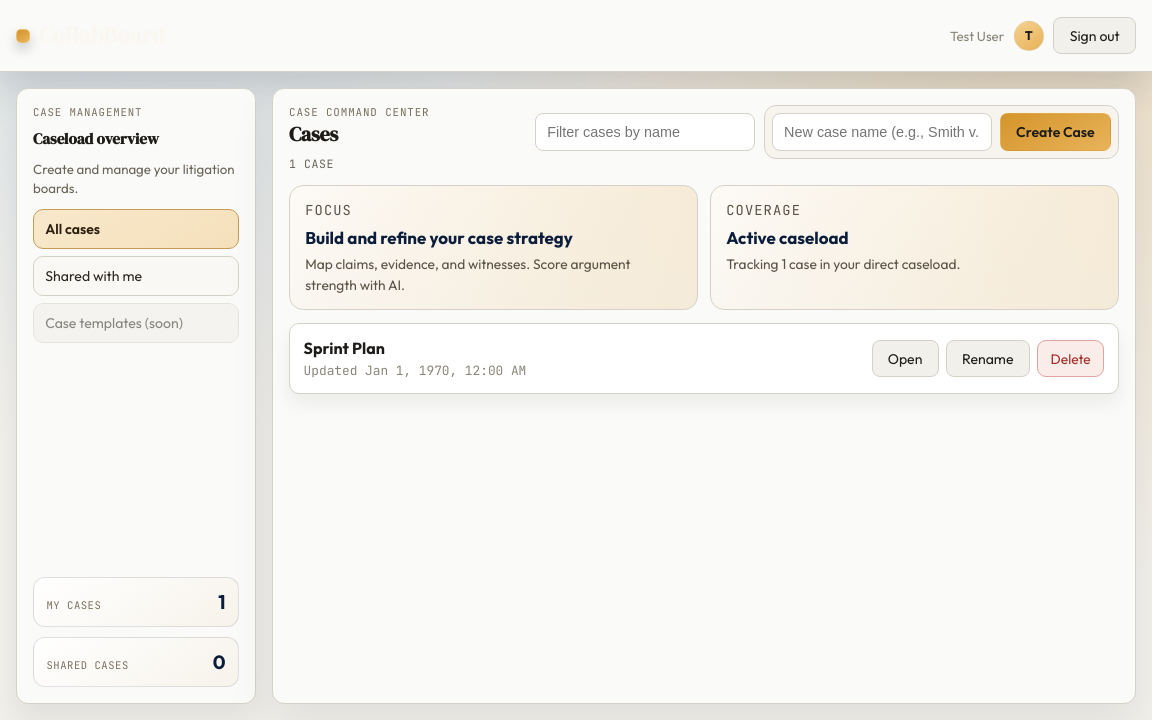
it: Dashboard › cancels rename when Cancel is clicked
This screenshot has width=1152, height=720.
What coordinates should you click on to do the following:
click the button "Rename"
I would click on:
 (988, 359)
Its box is [946,340,1030,377].
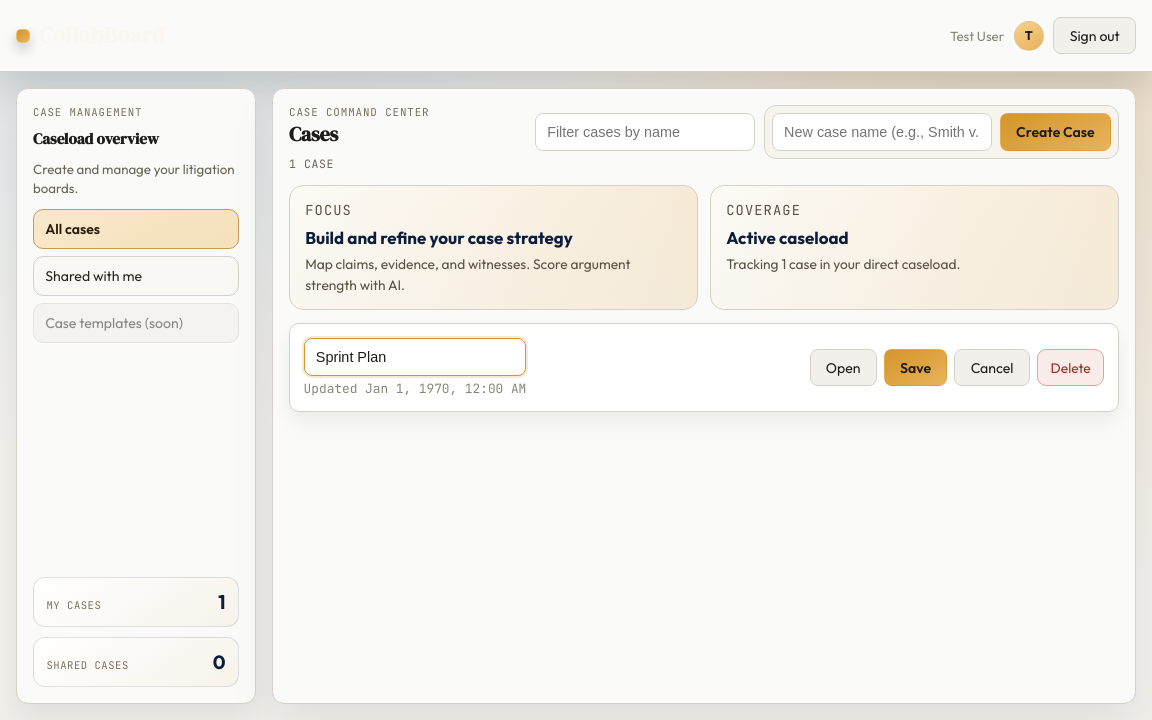
Now the field showing "Sprint Plan" is shown, box [304,338,526,376]
What coordinates should you click on to do the following:
click the button "Cancel"
I would click on:
 (992, 368)
Its box is [954,349,1030,386].
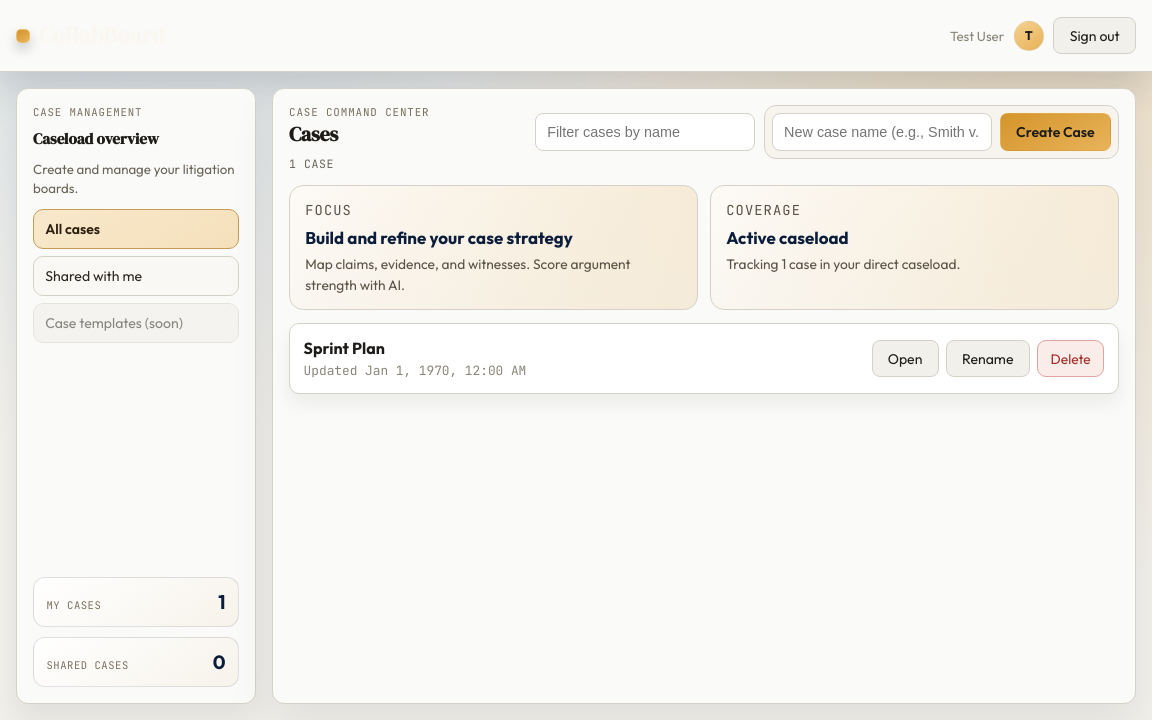
Now the heading "Sprint Plan" is shown, box [304,338,385,358]
